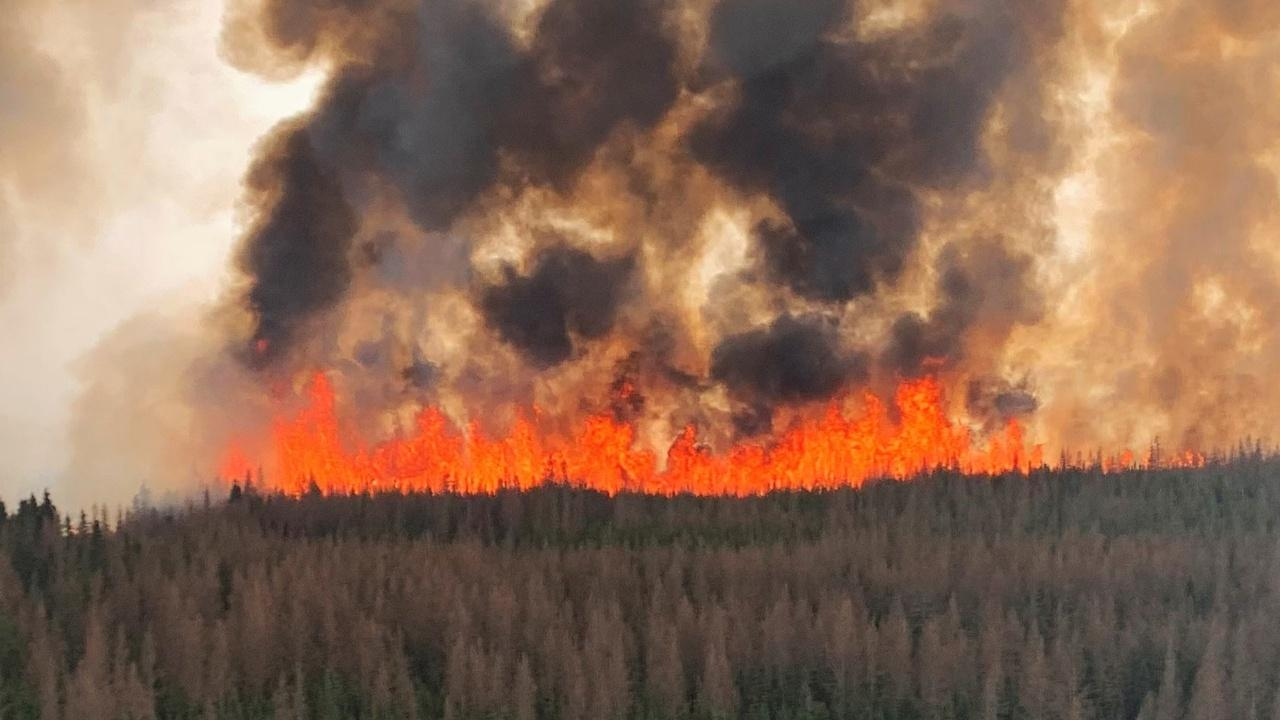fire: (84, 209, 1233, 609)
